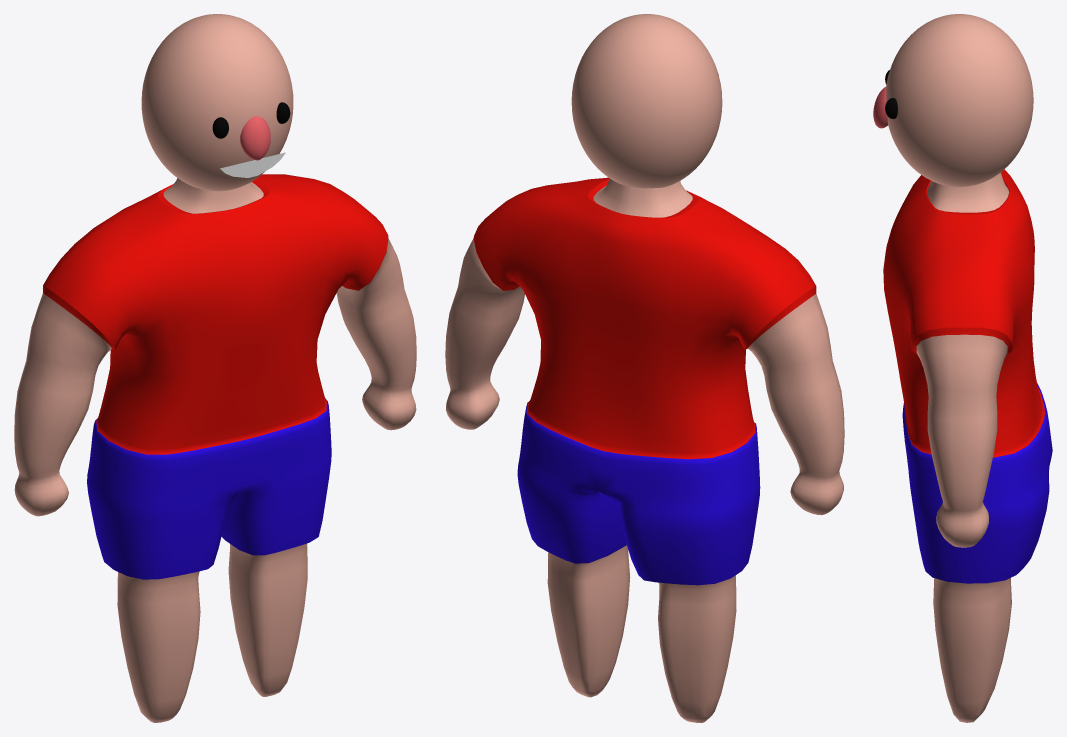
The model's file is Character.fbx.
3 views of the same model, side by side, from view 1: azimuth 30°, elevation 25°; view 2: azimuth 150°, elevation 25°; view 3: azimuth 270°, elevation 25° (orthographic). The views are drawn at different scales.
Parts seen in each view (by area): view 1: Cube, Plane; view 2: Cube; view 3: Cube.
Part boxes in pixels (bbox=[...]): Cube: bbox=[14, 14, 416, 722]; Plane: bbox=[220, 152, 285, 177]; Cube: bbox=[445, 14, 844, 722]; Cube: bbox=[873, 14, 1052, 722].
Size of the model in its own units: 172 by 289 by 69.72.
